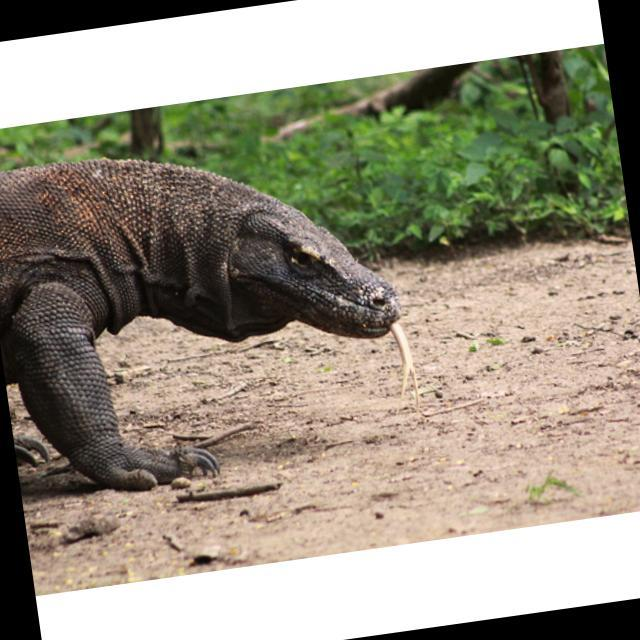KomodoDragon: (0, 115, 427, 508)
